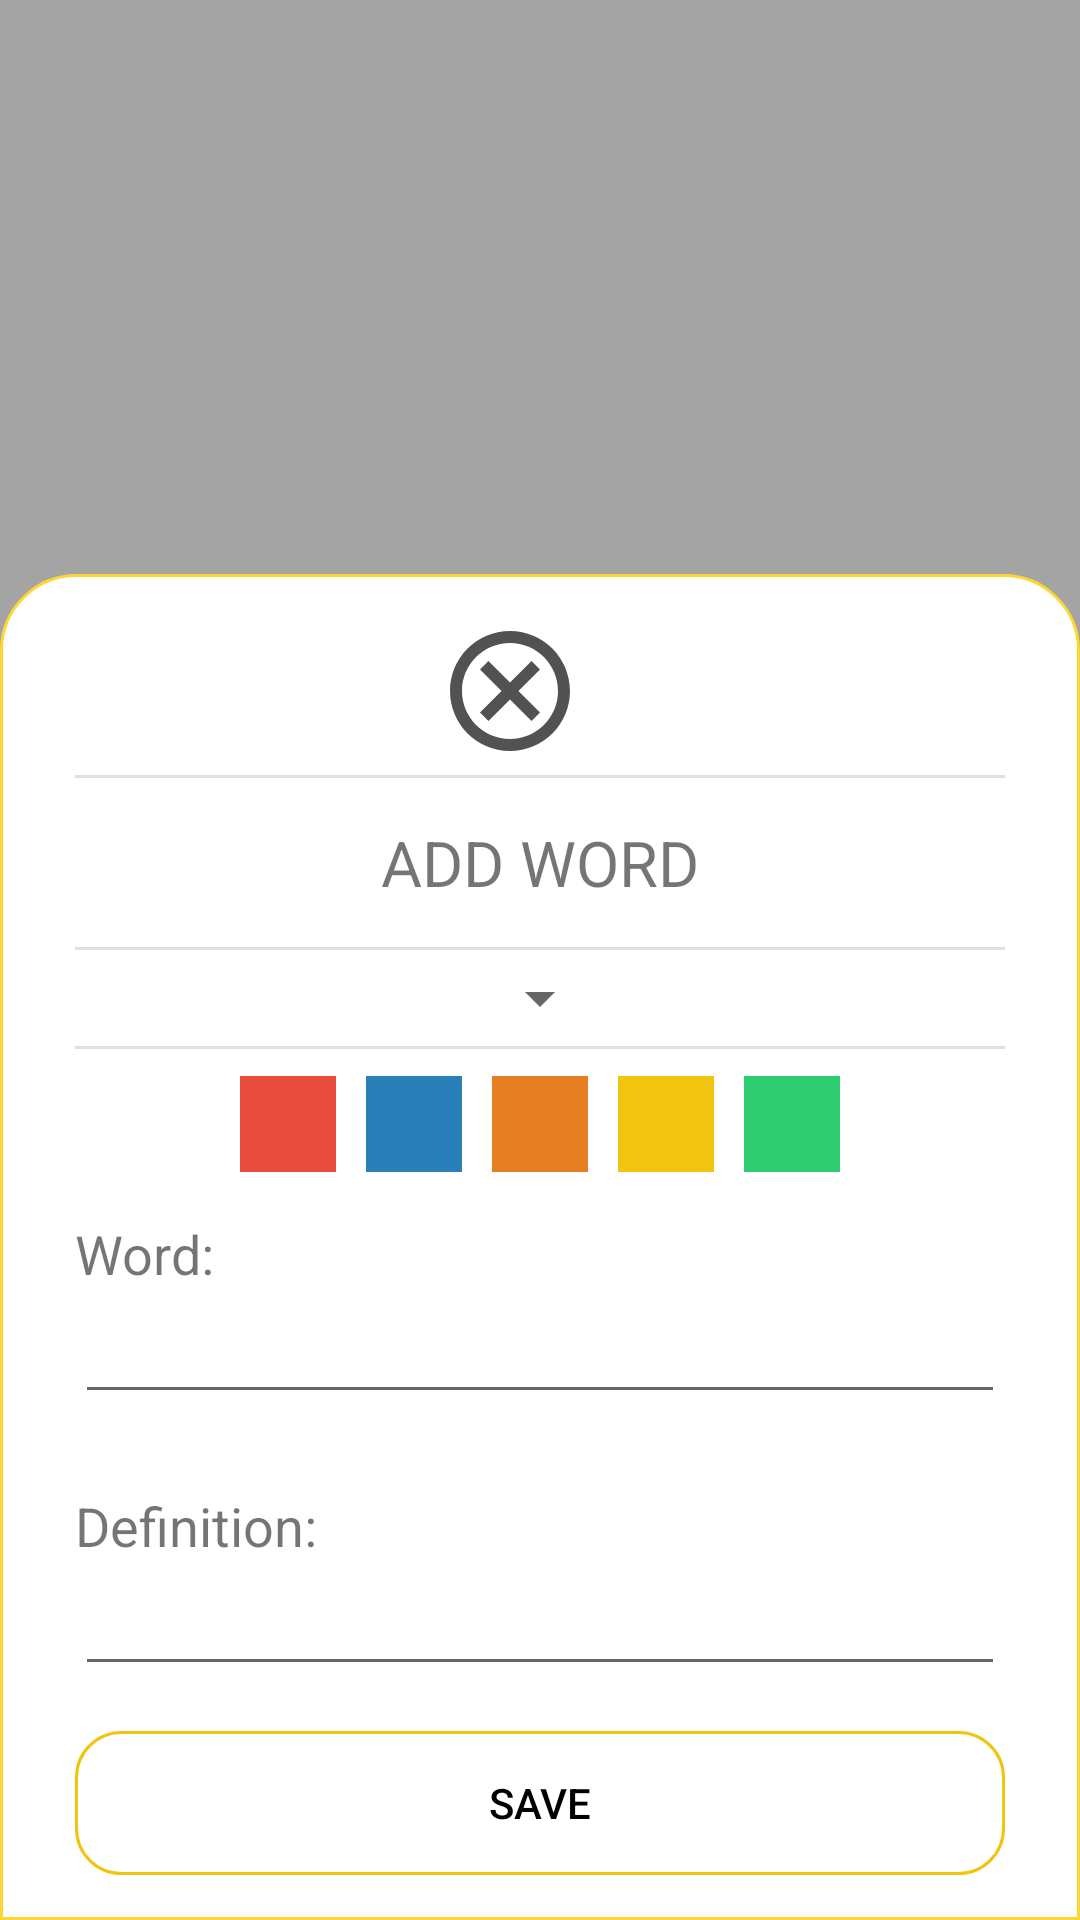

Point at icon controls on the screen. Image size 1080 × 1920, points as [x,y].
cancel: [510,691]
